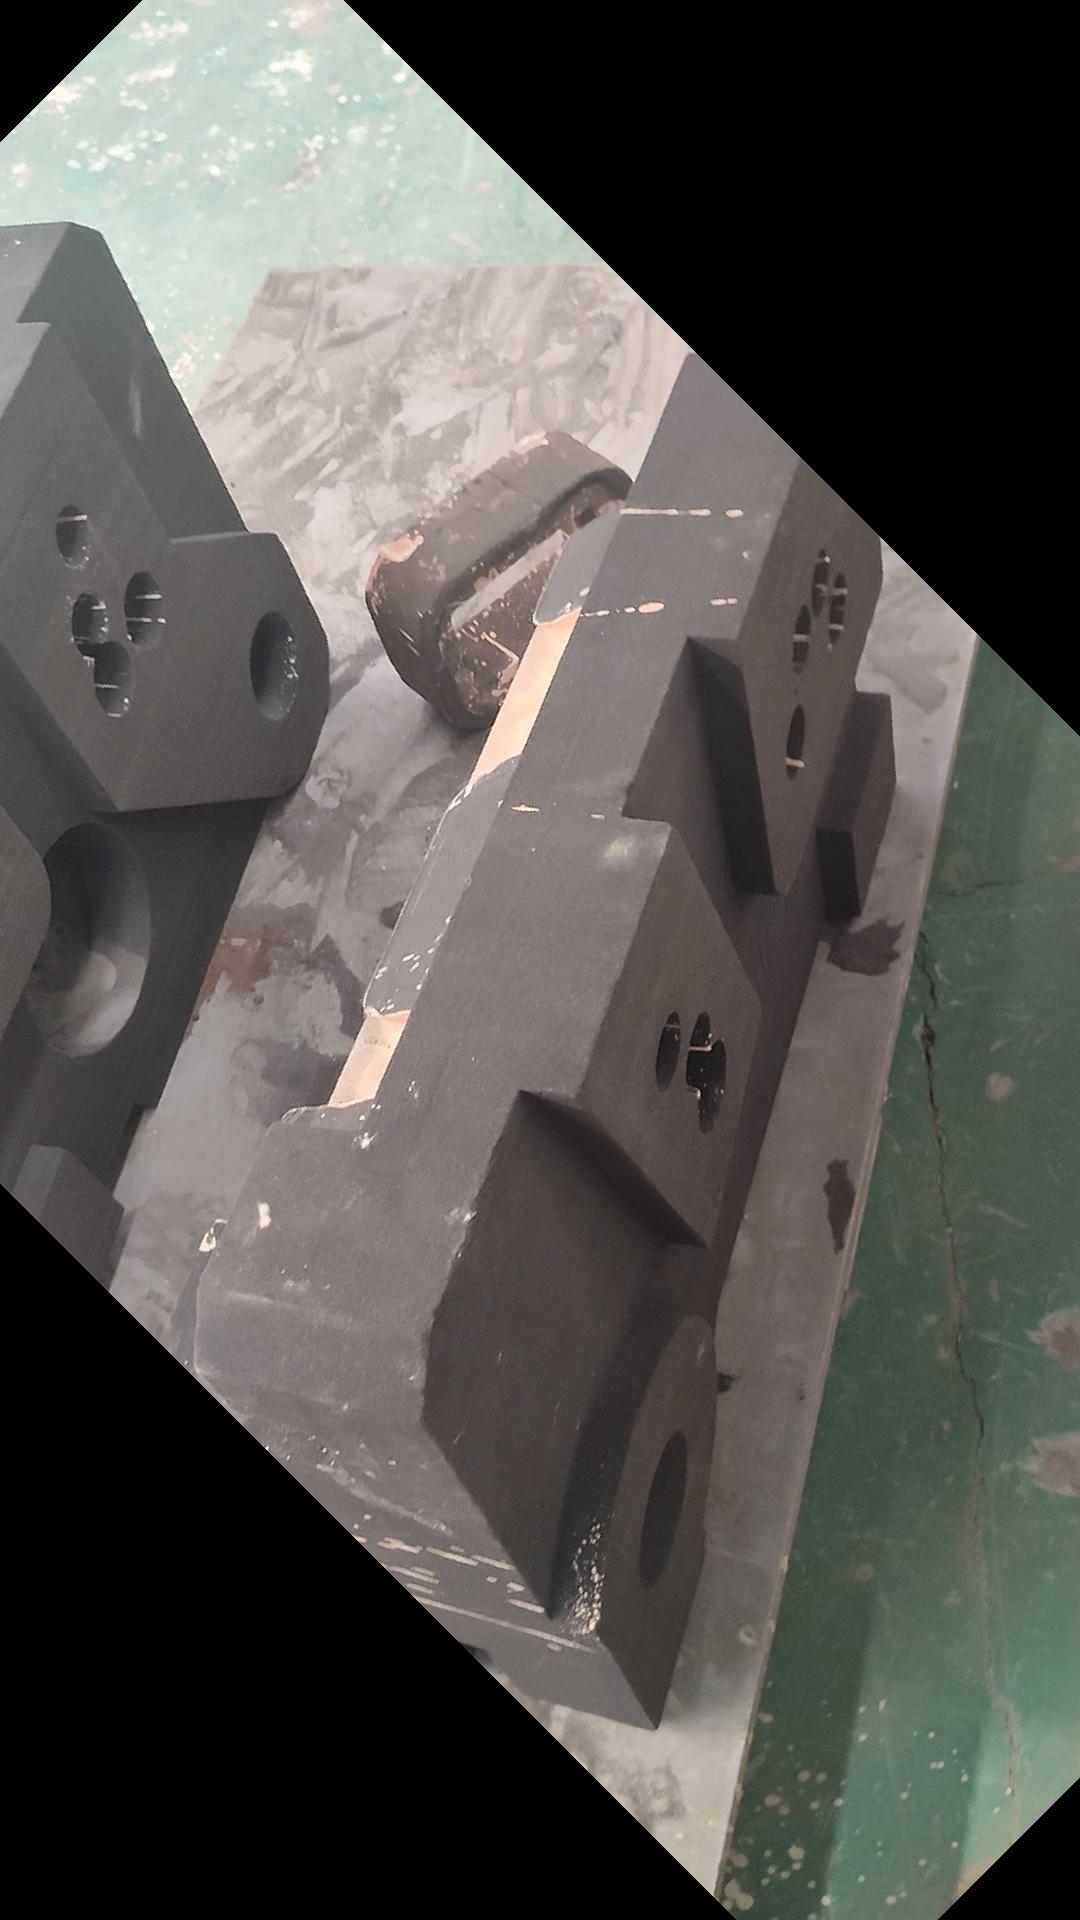pouring hole: (636, 1428, 691, 1596), (248, 609, 305, 723)
